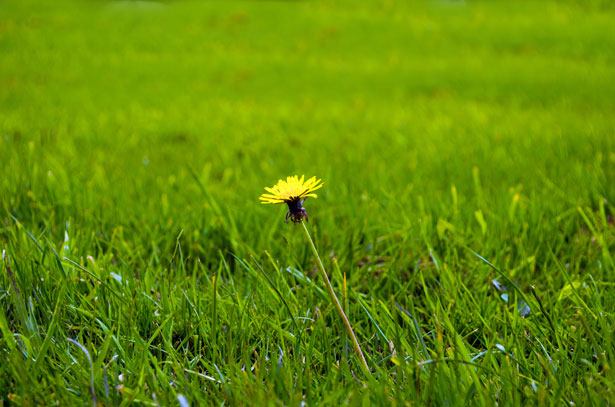dandelion: (253, 174, 325, 205)
